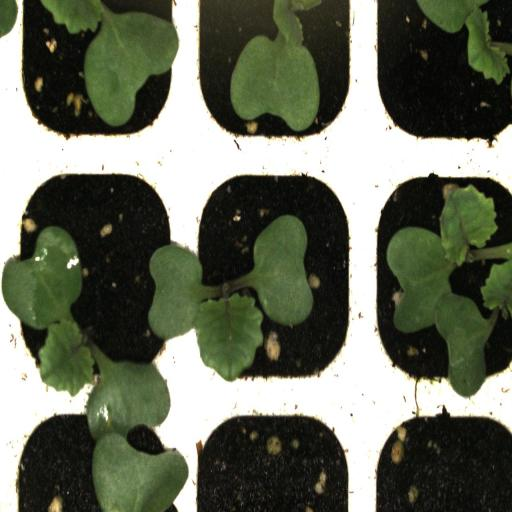Germinacao: (184, 155, 364, 397), (9, 153, 186, 396), (365, 158, 512, 404), (186, 0, 365, 166), (9, 0, 185, 151), (364, 1, 512, 158)
